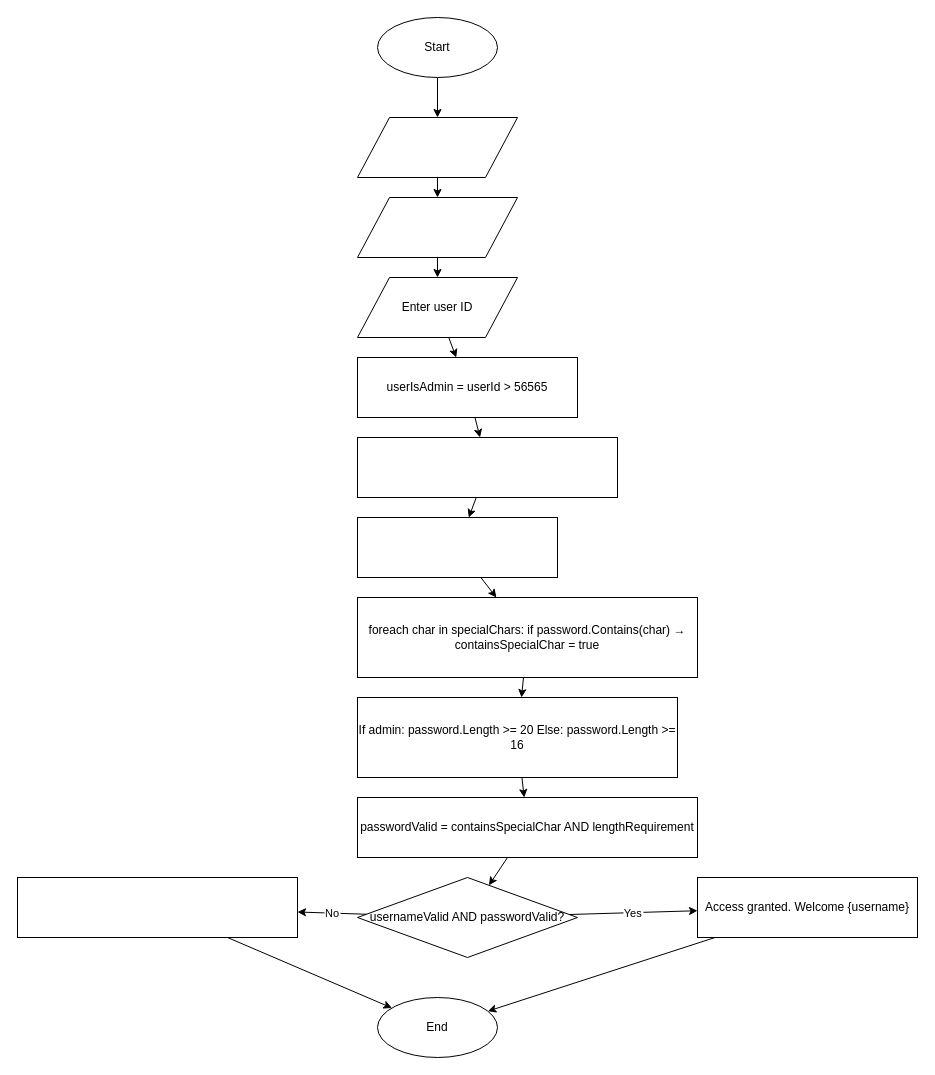
This 935x1075 diagram has some shape labels left out. Here are the shapes that lost their labels. From the top down, the centre of each, then its label:
At (x=437, y=147): "Enter username".
At (x=437, y=227): "Enter password".
At (x=487, y=467): "usernameValid = username.Length >= 3".
At (x=457, y=547): "specialChars = { $, |, @ }".
At (x=157, y=907): "Print error: username or password invalid".
